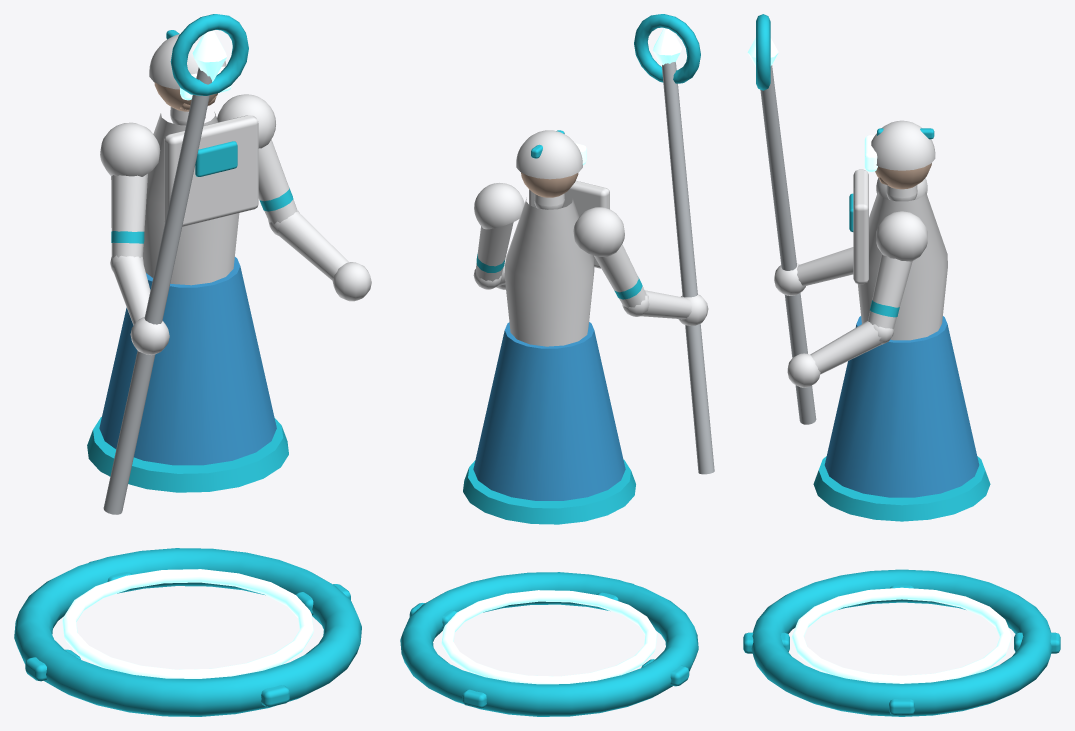
File: hero-shooter-harbour-payload-hero-lumen-idle-46c78b9d__27658.glb
3 renders of one model, left to right at view 1: azimuth 30°, elevation 25°; view 2: azimuth 150°, elevation 25°; view 3: azimuth 270°, elevation 25°, orthographic. The views are drawn at different scales.
Parts seen in each view (by area): view 1: hero-lumen-idle, ring, crystal; view 2: hero-lumen-idle, ring, crystal; view 3: hero-lumen-idle, ring.
Part boxes in pixels (x1=…): hero-lumen-idle: x1=62, y1=14, x2=371, y2=678; ring: x1=14, y1=548, x2=361, y2=716; crystal: x1=192, y1=30, x2=226, y2=81; hero-lumen-idle: x1=441, y1=14, x2=714, y2=684; ring: x1=400, y1=572, x2=698, y2=716; crystal: x1=652, y1=28, x2=682, y2=66; hero-lumen-idle: x1=756, y1=14, x2=1012, y2=683; ring: x1=743, y1=569, x2=1060, y2=716.
Bounding box in the file's own units: 1.04 × 2.22 × 1.04.
